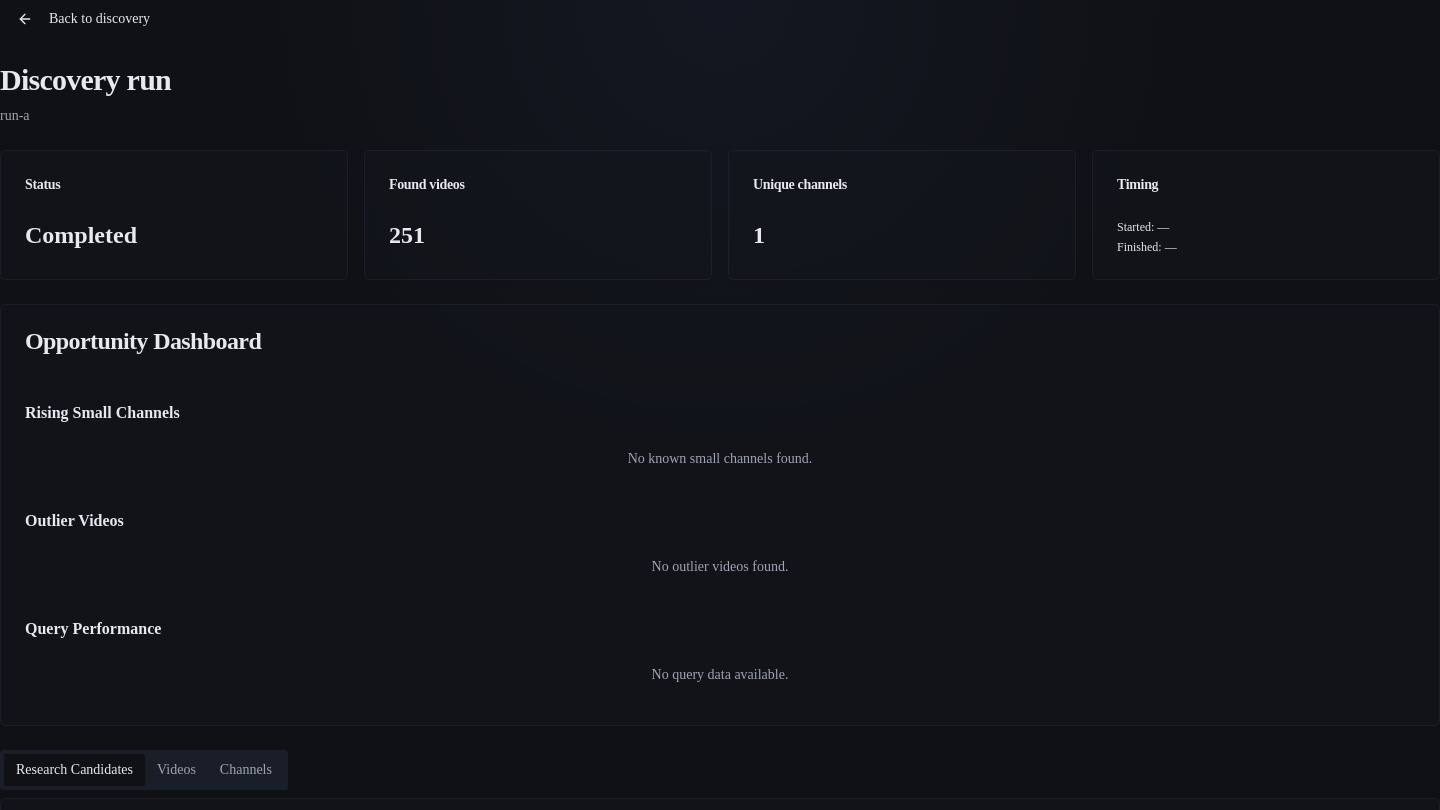
Discovery page bulk selection › caps current-page selection at 250 unique internal IDs
Step 1. Click the tab "Videos" → click(176, 770), box [145,754,208,786]
(page scrolled)
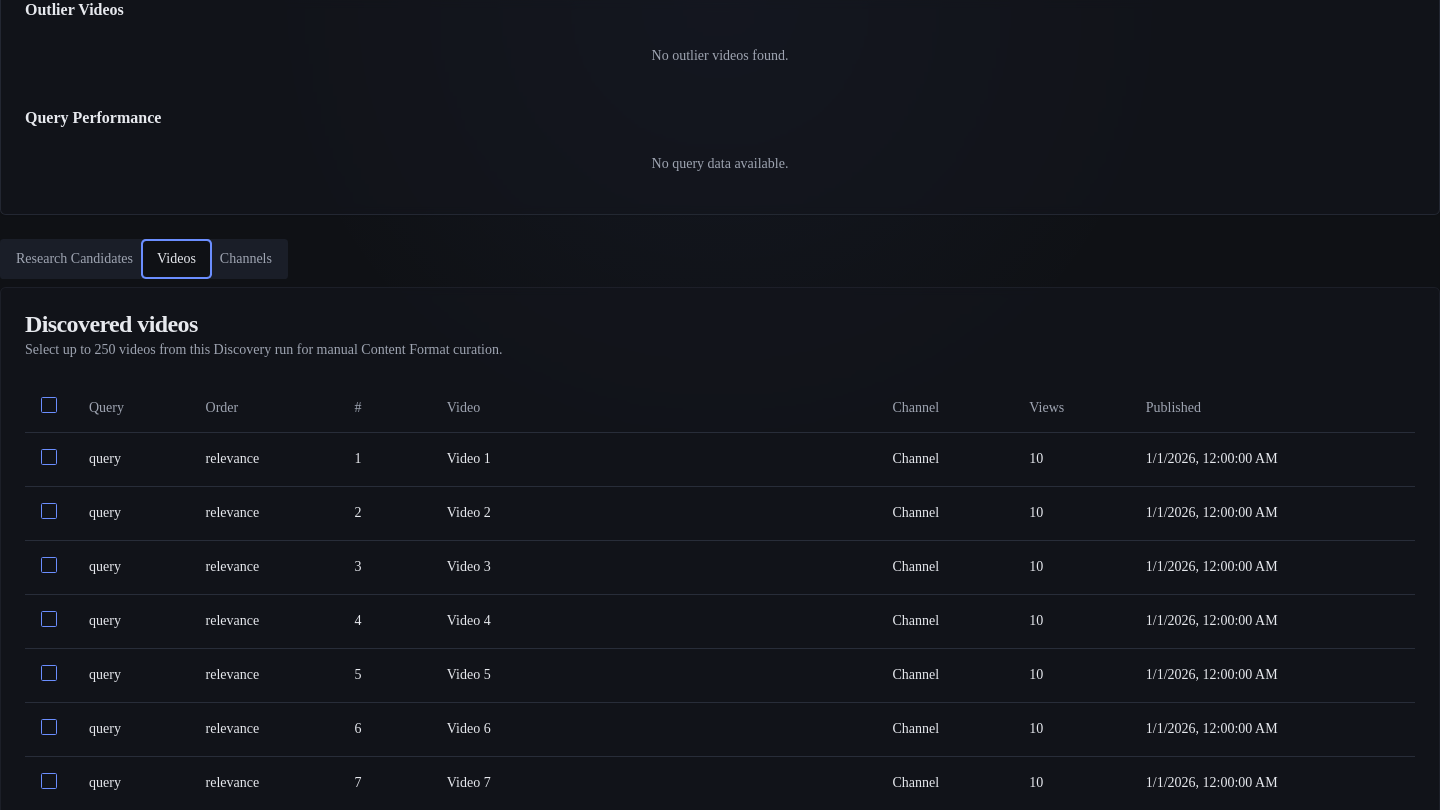
Step 2. Click the checkbox named "Select all videos on this page" → click(49, 405), box [41,397,57,413]
(page scrolled)
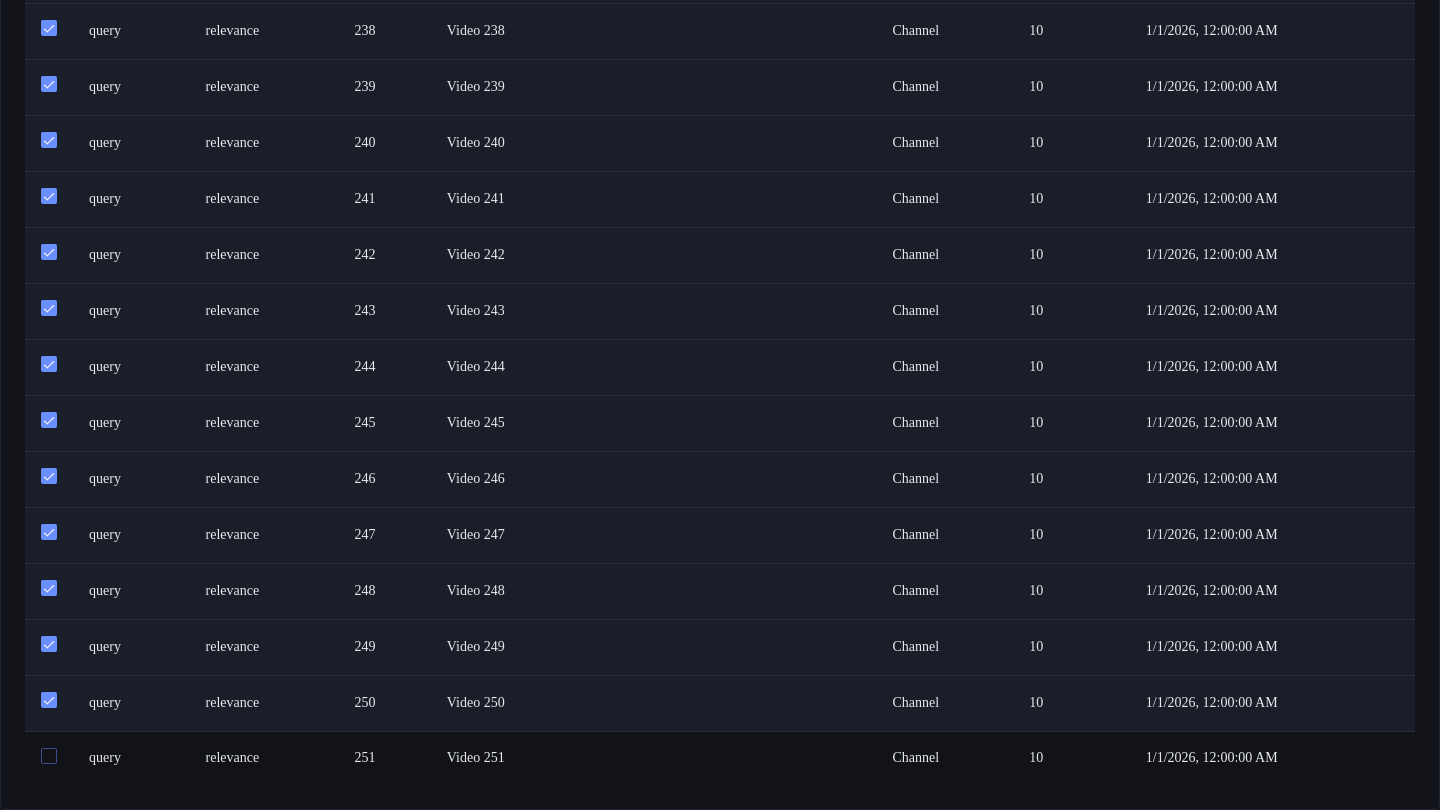
Expected: the checkbox named "Select Video 251" is disabled, [41,748,57,764]
